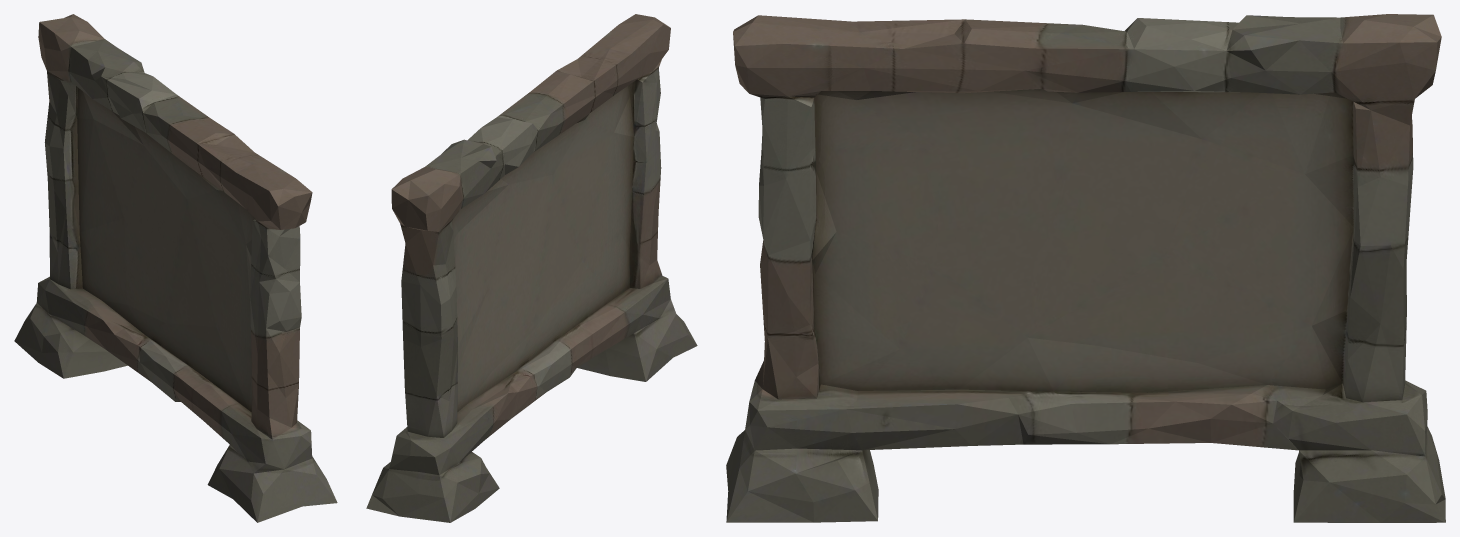
Rendered from stone+frame+3d+model.glb.
3 renders of one model, left to right at view 1: azimuth 30°, elevation 25°; view 2: azimuth 150°, elevation 25°; view 3: azimuth 270°, elevation 25°, orthographic. The views are drawn at different scales.
Parts seen in each view (by area): view 1: tripo_node_e57440aa-83dc-452f-99d2-6b61a3b9616a; view 2: tripo_node_e57440aa-83dc-452f-99d2-6b61a3b9616a; view 3: tripo_node_e57440aa-83dc-452f-99d2-6b61a3b9616a.
Part boxes in pixels (x1,y1,x2,y2): tripo_node_e57440aa-83dc-452f-99d2-6b61a3b9616a: (14,14,337,522); tripo_node_e57440aa-83dc-452f-99d2-6b61a3b9616a: (366,14,697,522); tripo_node_e57440aa-83dc-452f-99d2-6b61a3b9616a: (726,14,1445,522).
Bounding box in the file's own units: 0.1804 × 0.6915 × 0.9519.
1 material, 1 textured.
